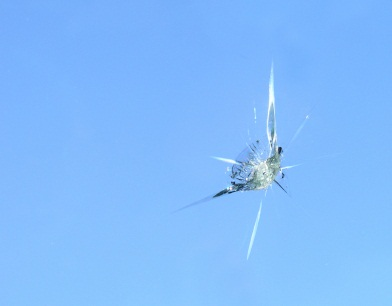bullseye: (188, 46, 336, 268)
